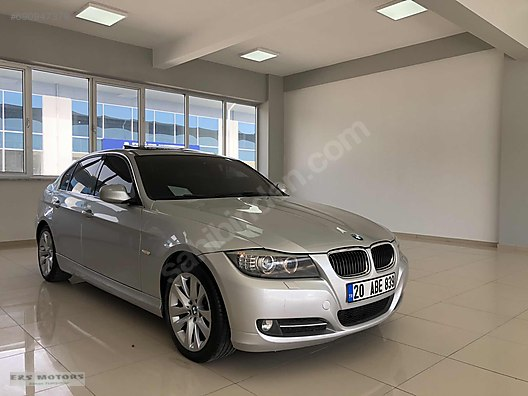bmw: (33, 142, 419, 367)
